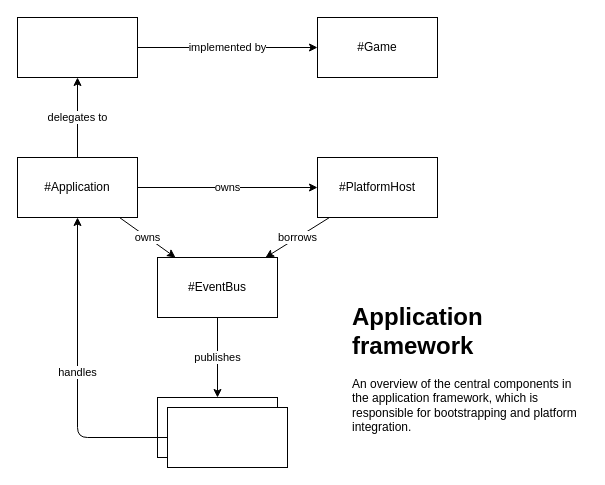
Image size: 605x485. Some labels were removed from this diagram. The centre of each missing label's shape, as x and y in pixels:
#ApplicationLIstener: point 77,47
#AppRenderEvent: point 227,437
